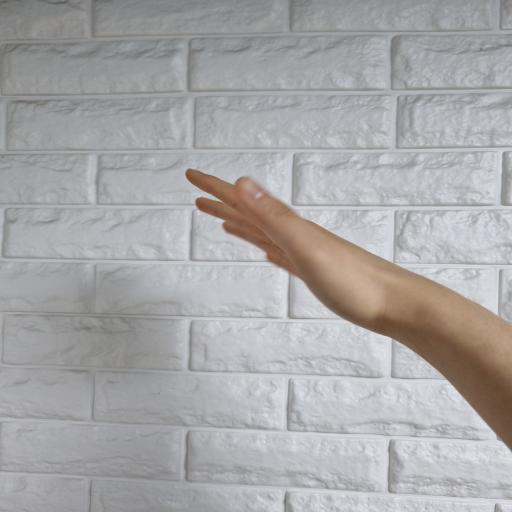Paper: (180, 166, 512, 453)
